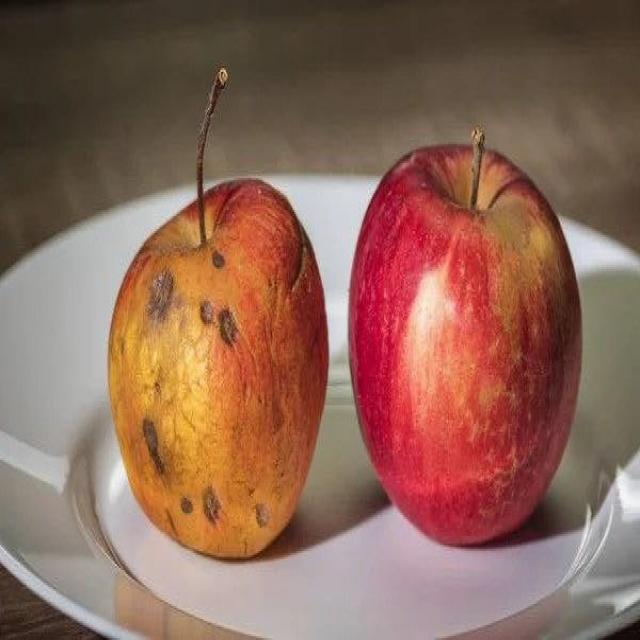Fresh Apple: (357, 153, 563, 545)
Rotten: (111, 175, 342, 575)
